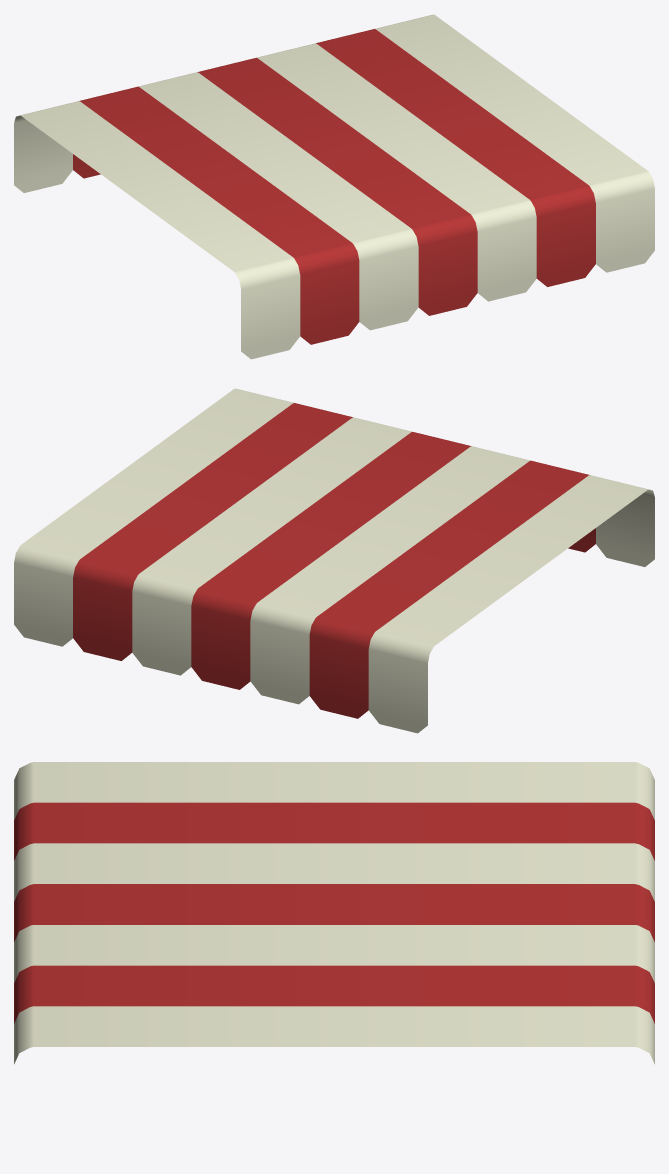
Rendered from Awning.fbx.
3 views of the same model, one above another, from view 1: azimuth 30°, elevation 25°; view 2: azimuth 150°, elevation 25°; view 3: azimuth 270°, elevation 25° (orthographic). The views are drawn at different scales.
Parts seen in each view (by area): view 1: Awning.001; view 2: Awning.001; view 3: Awning.001.
Boxes of the visible parts, x1,y1,x2,y2 form: Awning.001: (14, 14, 654, 359); Awning.001: (14, 388, 654, 733); Awning.001: (14, 762, 654, 1064).
Bounding box in the file's own units: 243 × 255 × 50.1.
2 materials, 2 textured.
